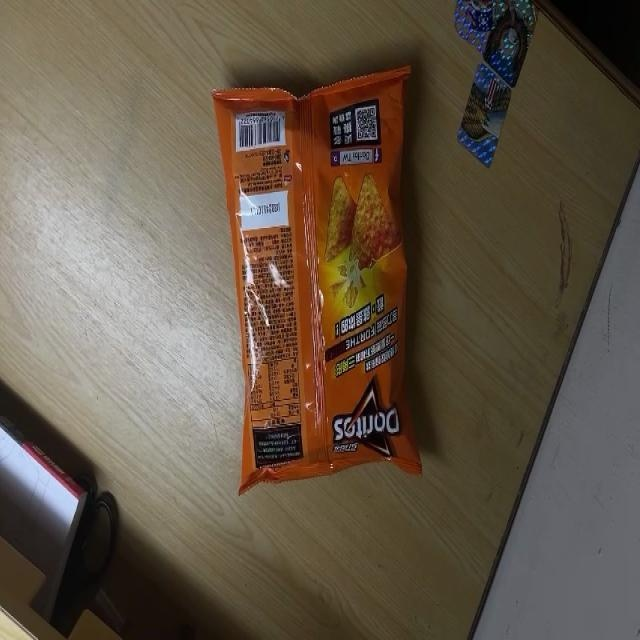Doritos: (213, 62, 424, 495)
